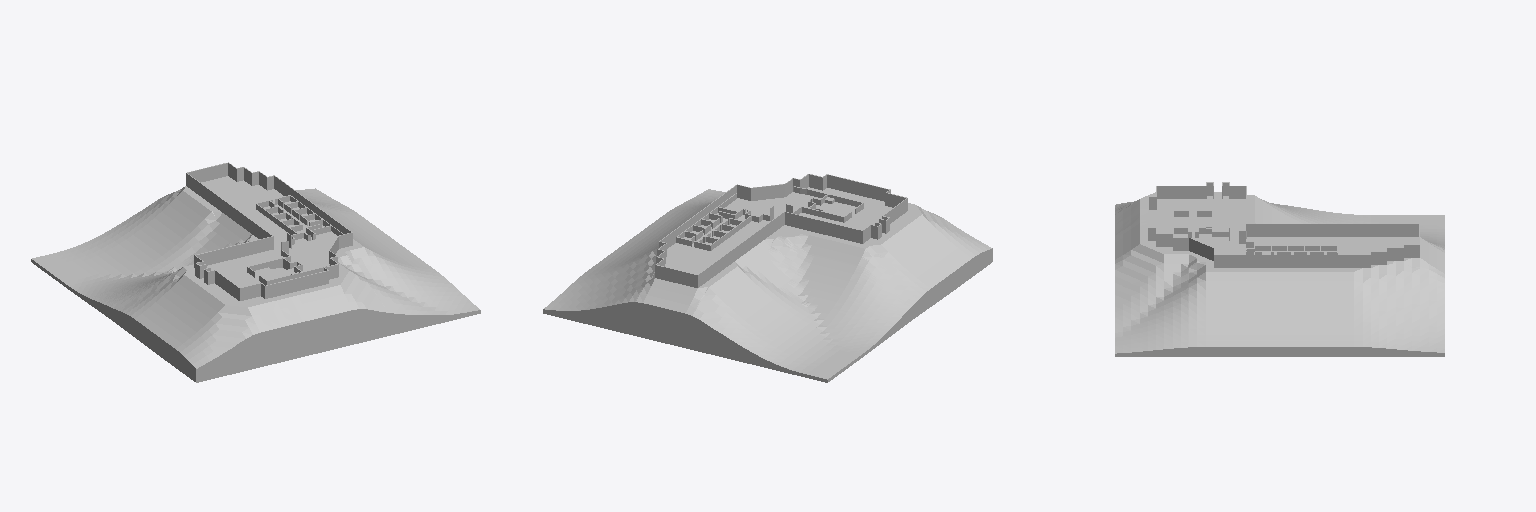
The model's file is ground.obj.
The picture shows the model from 3 angles: view 1: azimuth 30°, elevation 25°; view 2: azimuth 150°, elevation 25°; view 3: azimuth 270°, elevation 25°; orthographic projection.
Bounding box in the file's own units: 39.91 × 8.57 × 40.12.